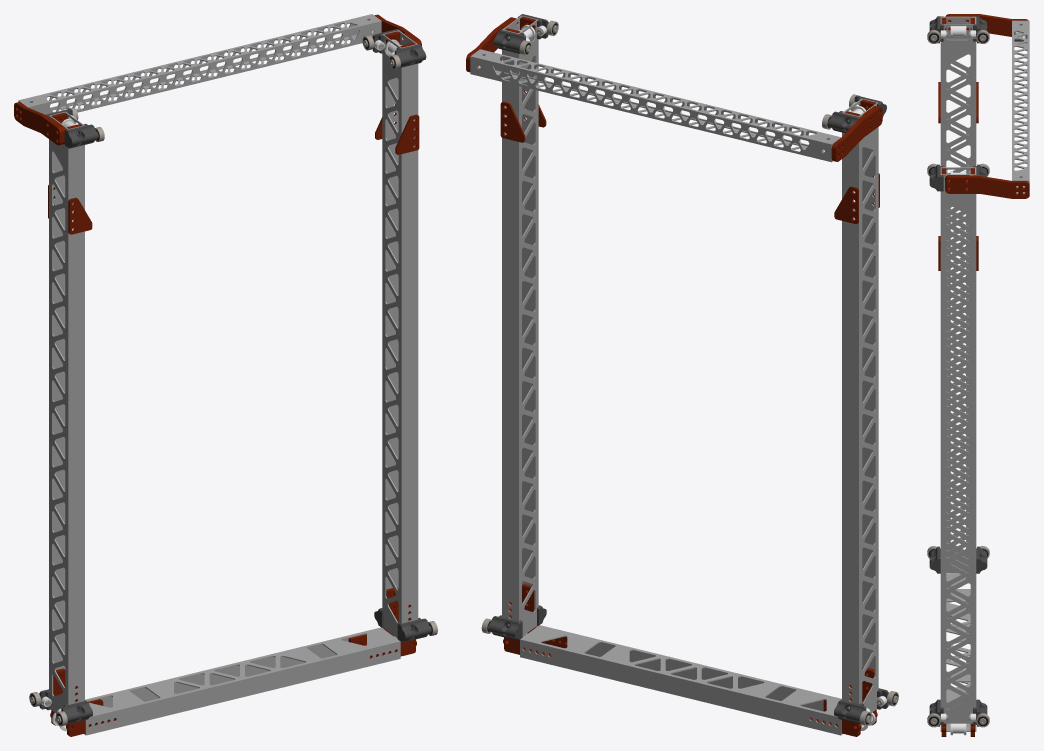
3 renders of one model, left to right at view 1: azimuth 30°, elevation 25°; view 2: azimuth 150°, elevation 25°; view 3: azimuth 270°, elevation 25°, orthographic. The views are drawn at different scales.
Visible parts, largest first — view 1: Middle Stage Tube (×2), Middle Stage Bottom, intermediate crossbar tube, Part 16, Hardstop; view 2: Middle Stage Tube (×2), Middle Stage Bottom, intermediate crossbar tube, Part 16, Hardstop; view 3: Middle Stage Tube (×2), intermediate crossbar tube, Part 16 (×2), WCP-0323-001 Rev2 (×5), Middle Stage Bottom, Pulley.
Part boxes in pixels (box(x1,y1,x2,y2)): Middle Stage Tube (×2): box(49, 30, 418, 713); Middle Stage Bottom: box(84, 627, 400, 735); intermediate crossbar tube: box(18, 14, 381, 114); Part 16: box(14, 102, 63, 145); Hardstop: box(395, 114, 419, 154); Middle Stage Tube (×2): box(502, 15, 878, 712); Middle Stage Bottom: box(520, 625, 842, 735); intermediate crossbar tube: box(470, 49, 841, 162); Part 16: box(831, 106, 882, 161); Hardstop: box(500, 101, 525, 142); Middle Stage Tube (×2): box(940, 16, 976, 723); intermediate crossbar tube: box(1012, 20, 1029, 196); Part 16 (×2): box(945, 14, 1029, 198); WCP-0323-001 Rev2 (×5): box(929, 16, 987, 573); Middle Stage Bottom: box(940, 573, 976, 731); Pulley: box(950, 26, 966, 38).
Bounding box in the file's own units: 0.575 × 0.889 × 0.1461.
